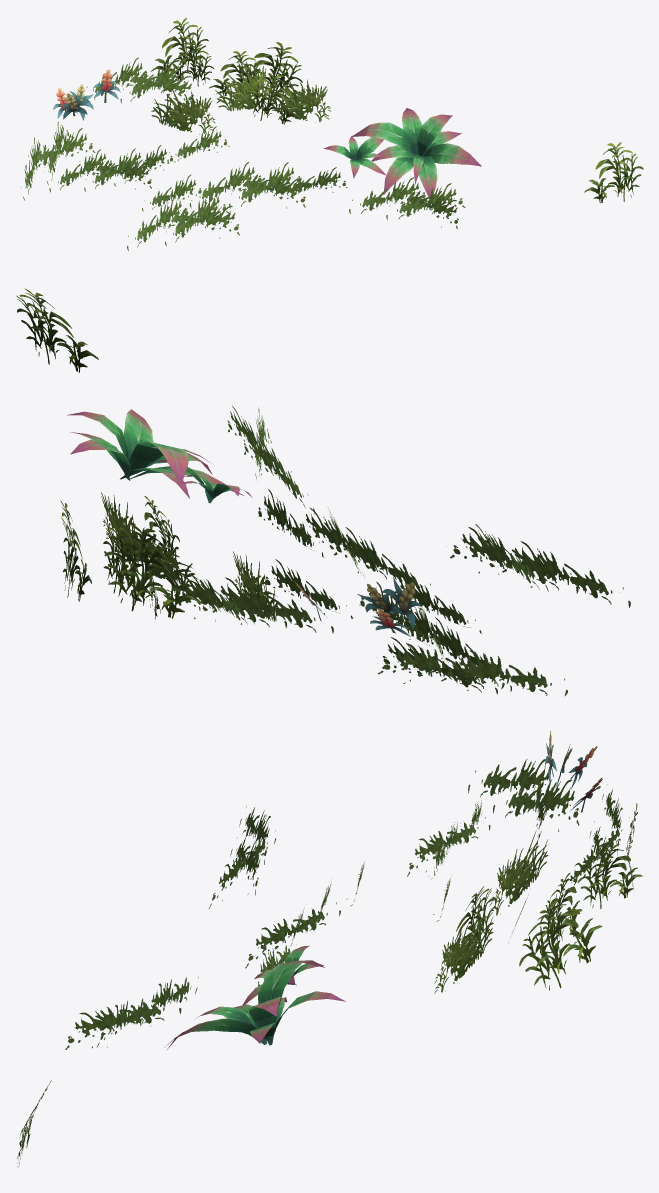
The picture shows the model from 3 angles, top to bottom: view 1: azimuth 30°, elevation 25°; view 2: azimuth 150°, elevation 25°; view 3: azimuth 270°, elevation 25°; orthographic projection. The views are drawn at different scales.
Parts seen in each view (by area): view 1: Mesh_34; view 2: Mesh_34; view 3: Mesh_34.
Boxes of the visible parts, x1,y1,x2,y2 form: Mesh_34: (21,17,643,251); Mesh_34: (16,288,630,695); Mesh_34: (17,730,642,1166).
Size of the model in its own units: 5.95 by 1.3 by 4.13.
